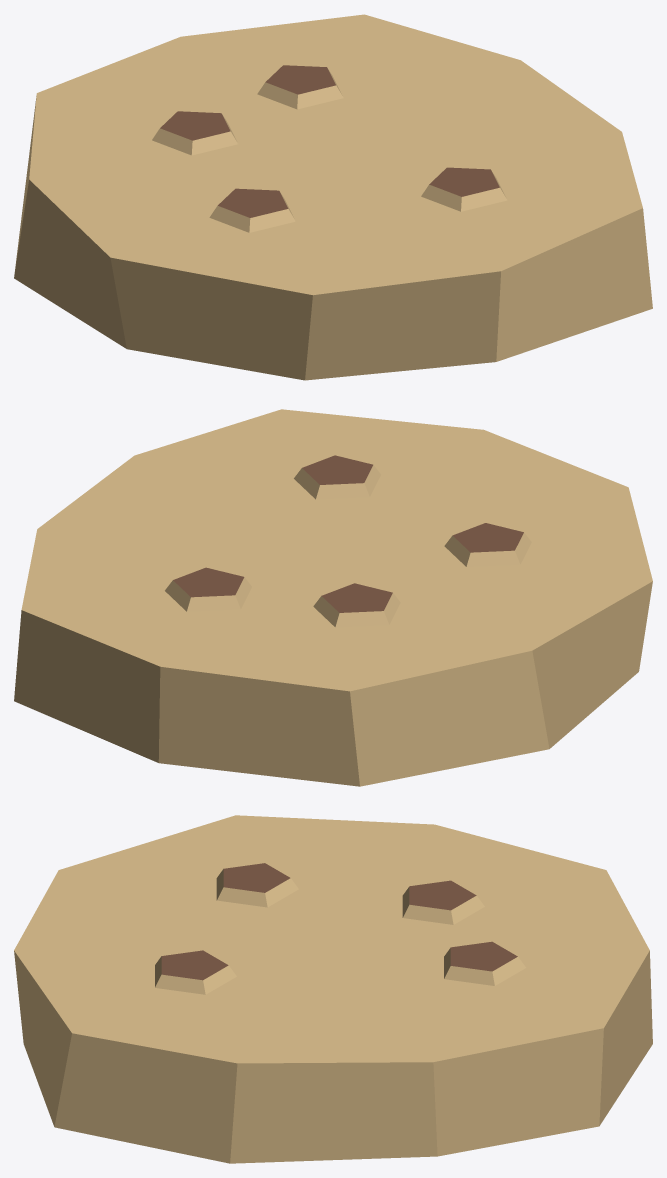
The model's file is StaleCookie.fbx.
The picture shows the model from 3 angles, top to bottom: view 1: azimuth 30°, elevation 25°; view 2: azimuth 150°, elevation 25°; view 3: azimuth 270°, elevation 25°; orthographic projection.
Parts seen in each view (by area): view 1: StaleCookie; view 2: StaleCookie; view 3: StaleCookie.
Part boxes in pixels (x1,y1,x2,y2): StaleCookie: (14, 14, 652, 380); StaleCookie: (14, 409, 652, 786); StaleCookie: (14, 815, 652, 1163).
Bounding box in the file's own units: 0.6419 × 0.1232 × 0.6804.
